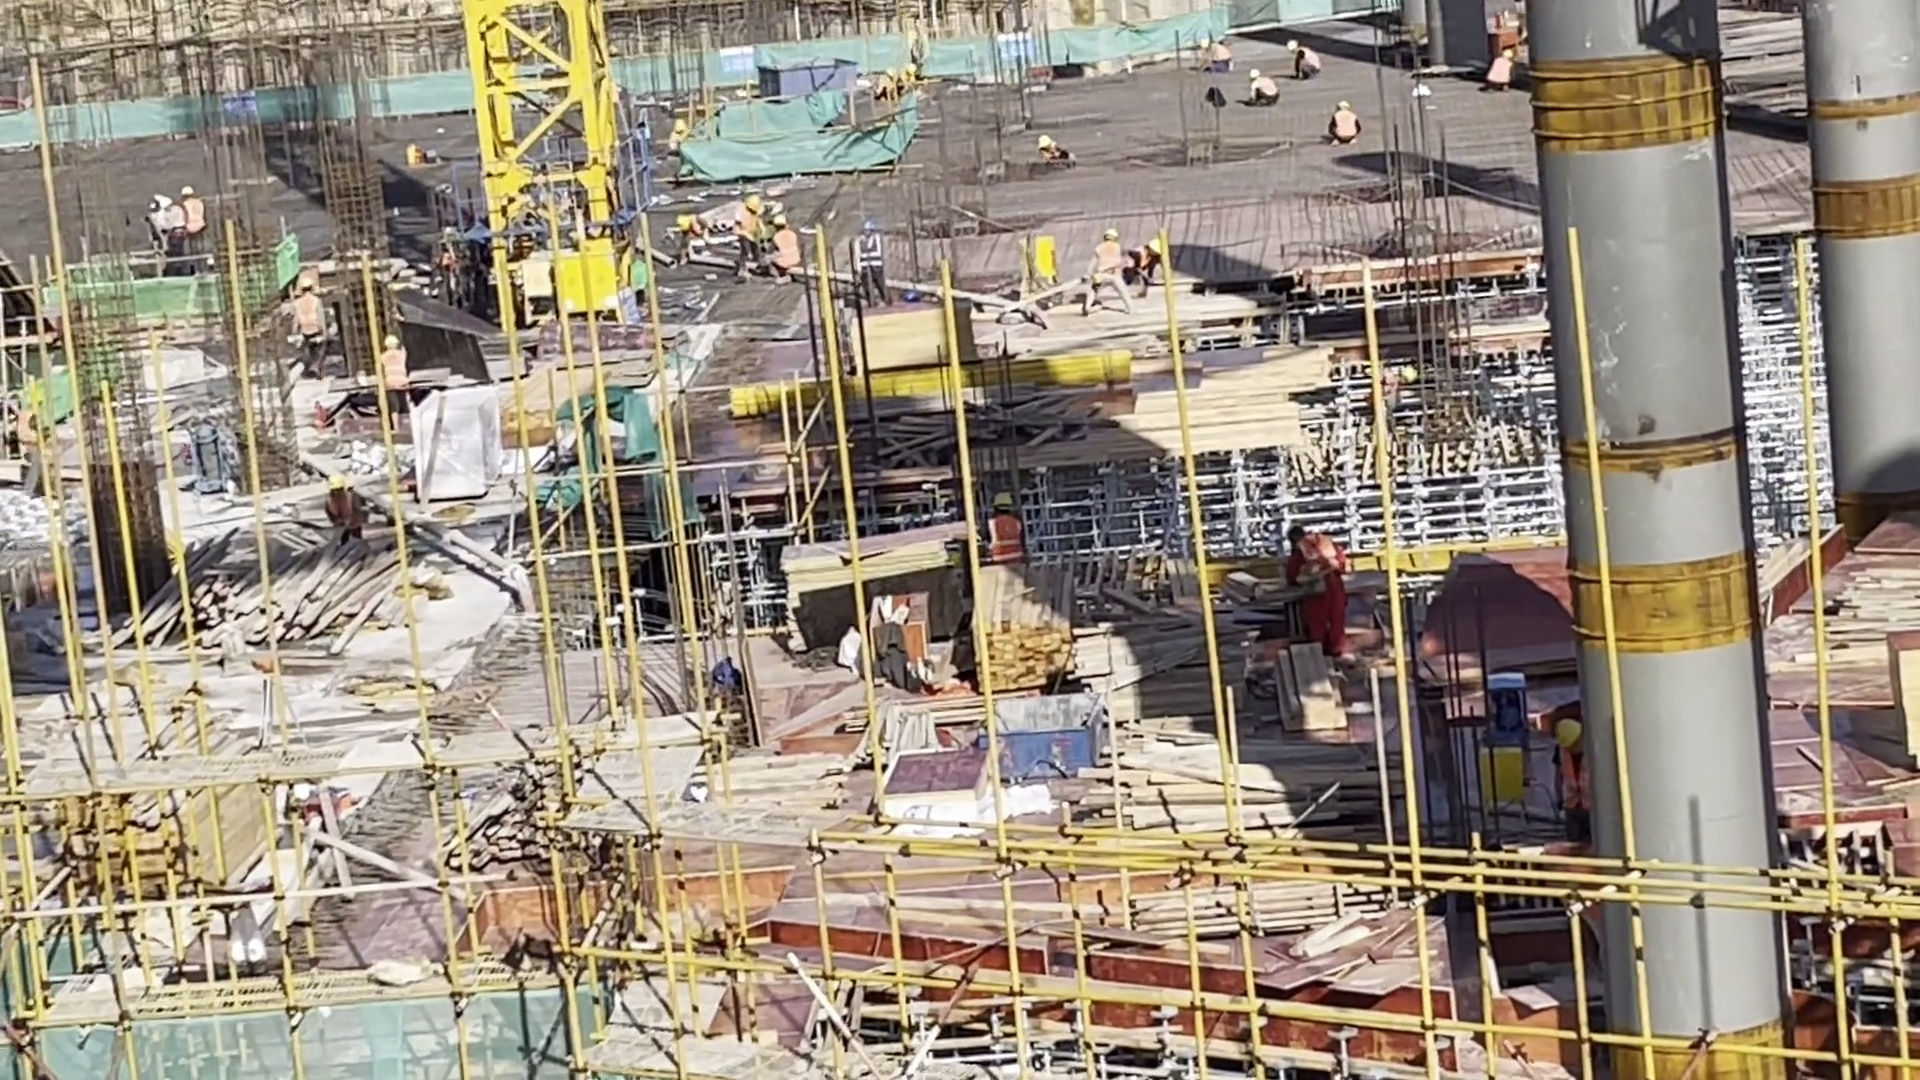helmet: (1556, 714, 1578, 750), (1034, 129, 1057, 158), (147, 197, 172, 219), (739, 194, 760, 220), (991, 492, 1014, 516), (301, 274, 323, 296), (857, 219, 881, 239), (673, 210, 691, 232), (179, 187, 197, 207), (386, 331, 403, 350), (773, 214, 788, 232), (1498, 46, 1514, 62), (1102, 229, 1117, 246), (1285, 37, 1299, 53), (1199, 37, 1215, 51), (1247, 68, 1260, 80), (1339, 101, 1352, 114)
person: (1281, 523, 1358, 657), (1543, 717, 1599, 834), (283, 276, 333, 374), (1088, 226, 1138, 318), (850, 216, 892, 302), (377, 330, 415, 421), (984, 488, 1029, 562), (179, 177, 213, 264), (144, 199, 182, 270), (770, 214, 806, 290), (1129, 238, 1172, 293), (736, 195, 762, 279), (438, 231, 464, 307), (1030, 127, 1068, 173), (678, 213, 714, 263), (1324, 100, 1361, 146), (1478, 46, 1519, 87), (1284, 38, 1317, 81), (1245, 68, 1280, 106), (1197, 38, 1231, 76), (666, 117, 692, 151), (874, 71, 898, 104)
vest: (1295, 544, 1337, 587), (1556, 746, 1587, 804), (1094, 244, 1130, 281), (381, 355, 407, 398), (295, 295, 321, 333), (859, 239, 883, 272), (772, 232, 796, 263), (1485, 58, 1512, 83), (1333, 115, 1354, 138), (1253, 78, 1277, 99)
